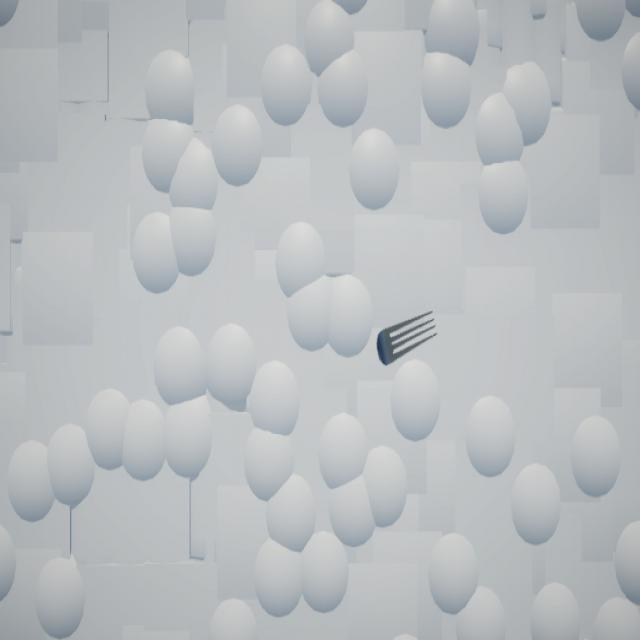top_folk: (377, 313, 438, 367)
